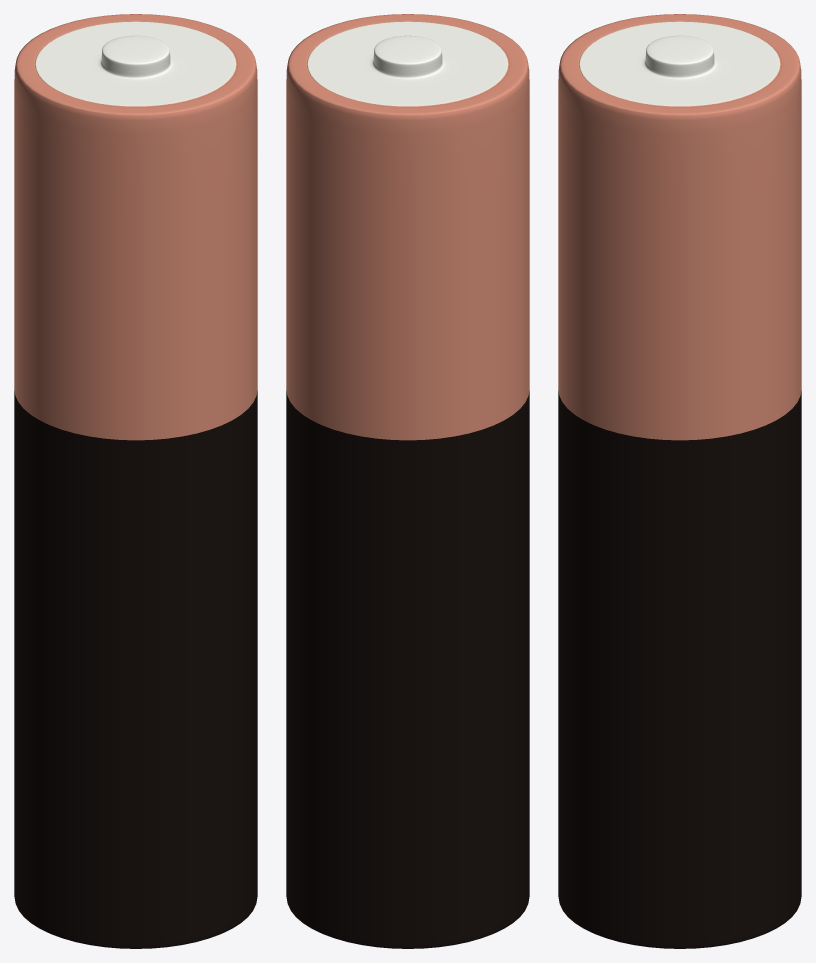
Rendered from battery.fbx.
The picture shows the model from 3 angles, left to right: view 1: azimuth 30°, elevation 25°; view 2: azimuth 150°, elevation 25°; view 3: azimuth 270°, elevation 25°; orthographic projection.
Parts seen in each view (by area): view 1: pilha; view 2: pilha; view 3: pilha.
Part boxes in pixels (box(x1,y1,x2,y2)): pilha: box(14, 14, 257, 948); pilha: box(286, 14, 529, 948); pilha: box(558, 14, 801, 948).
Bounding box in the file's own units: 31.53 × 122 × 31.53.
